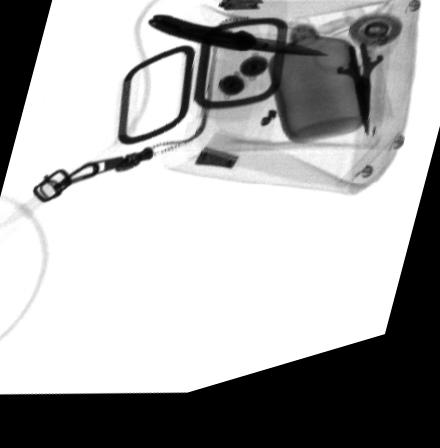Knife: (145, 22, 329, 75)
Scissors: (308, 35, 394, 159)
